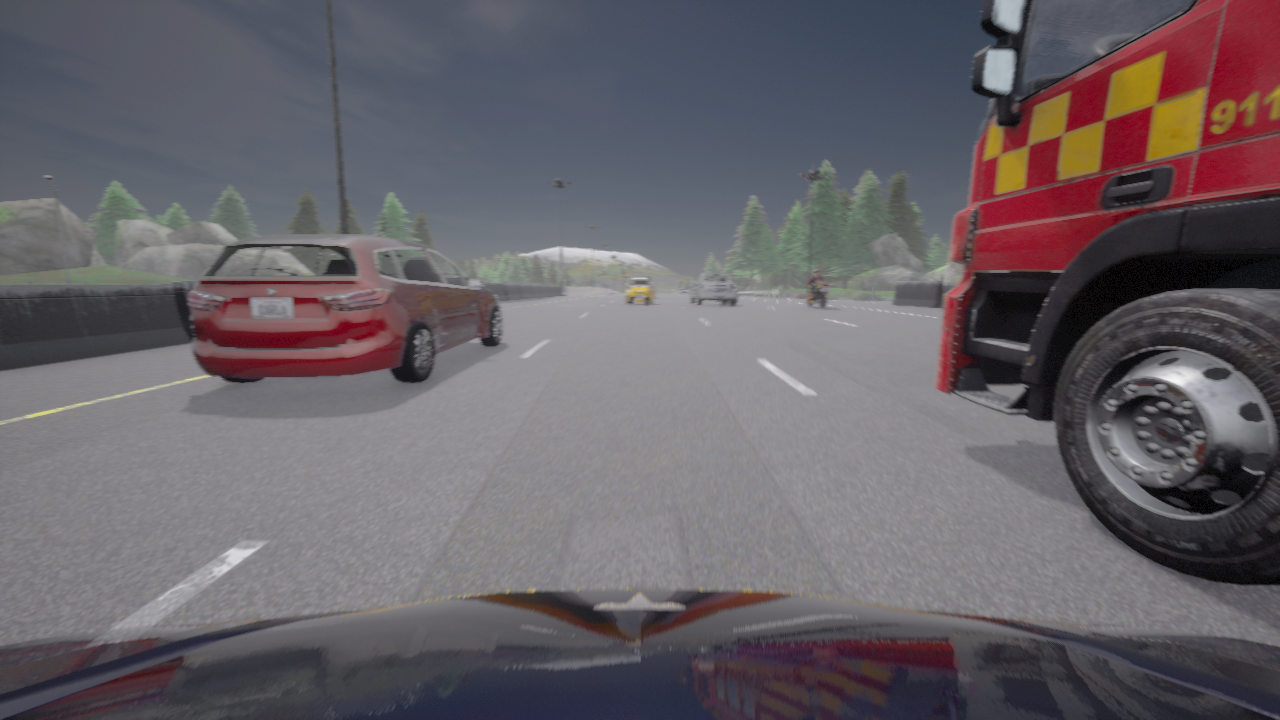cyclist: (935, 0, 1279, 585), (0, 588, 1279, 719), (189, 234, 503, 383), (690, 273, 737, 304), (802, 279, 830, 308), (626, 277, 654, 304), (635, 276, 654, 297)
